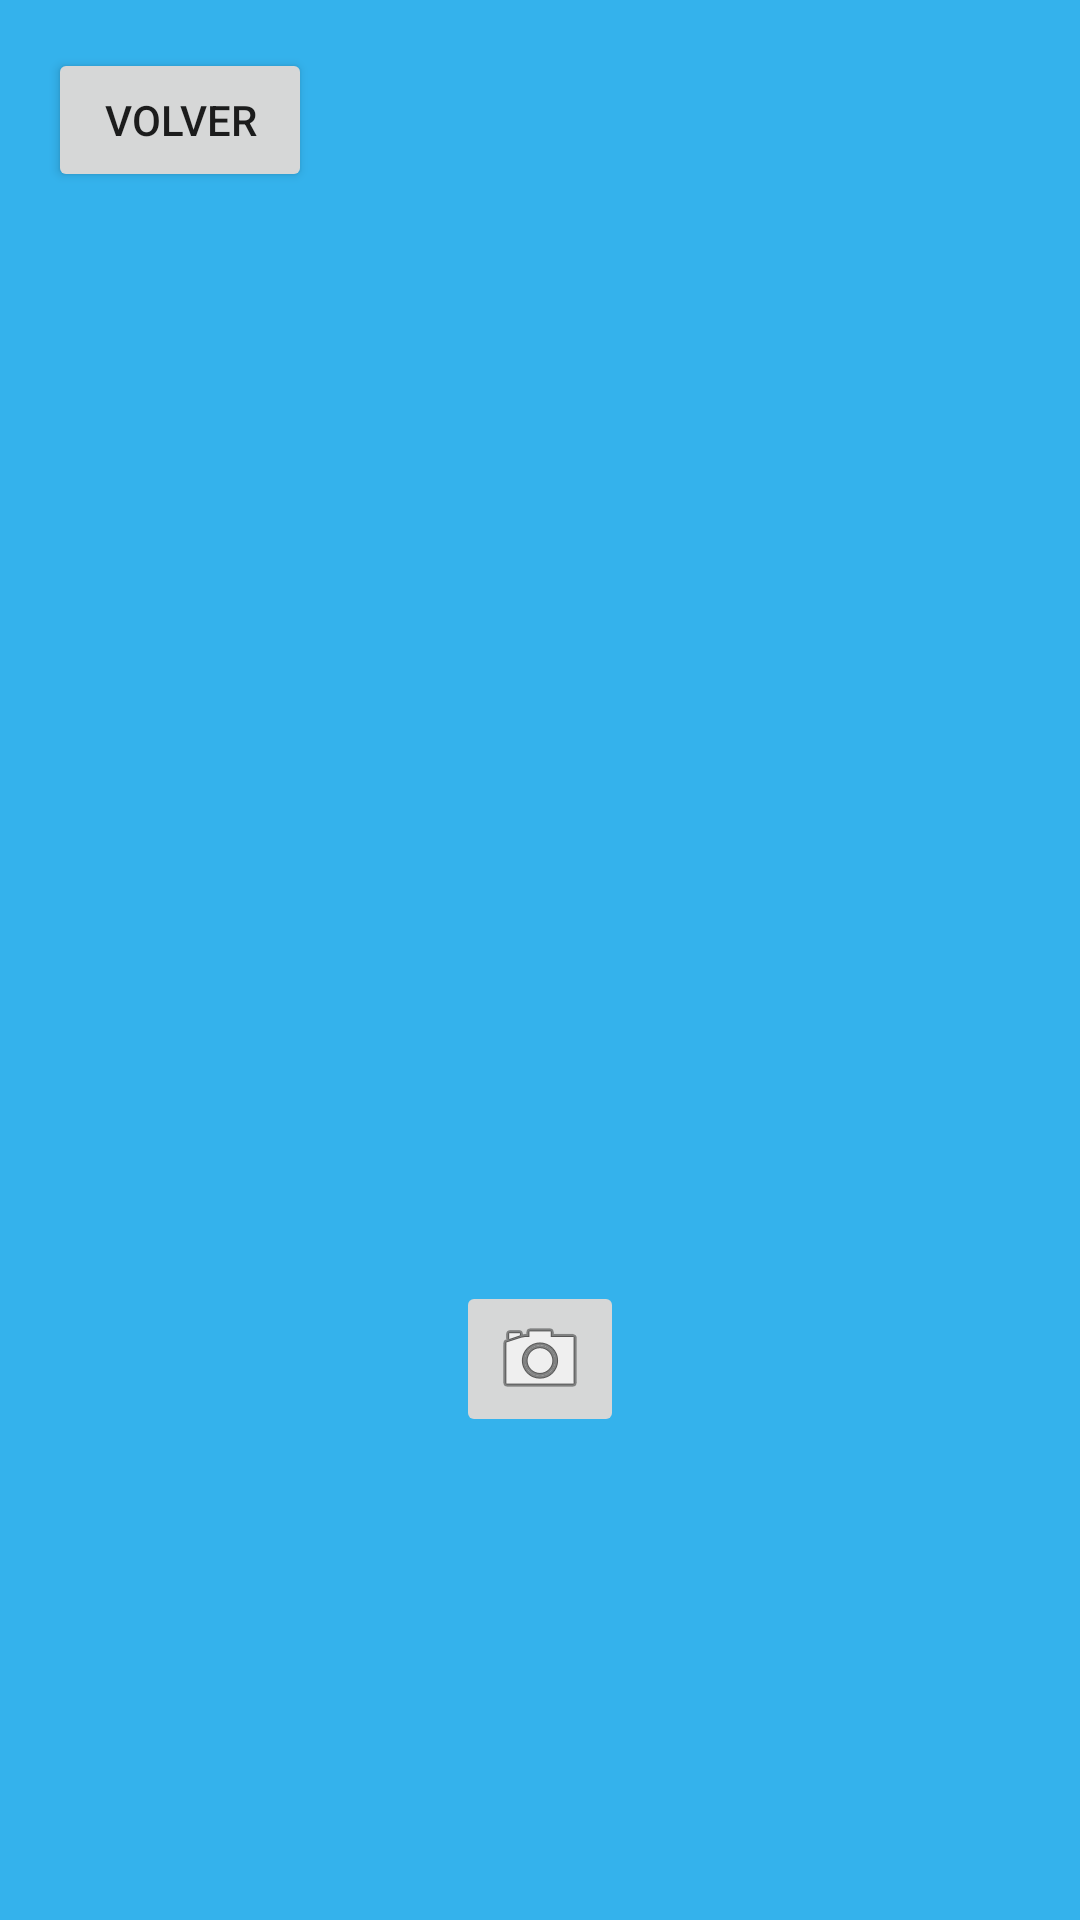

Icon click points for this 1080w x 1920h phone screenshot, format point (x, y):
camera: point (540, 1359)
